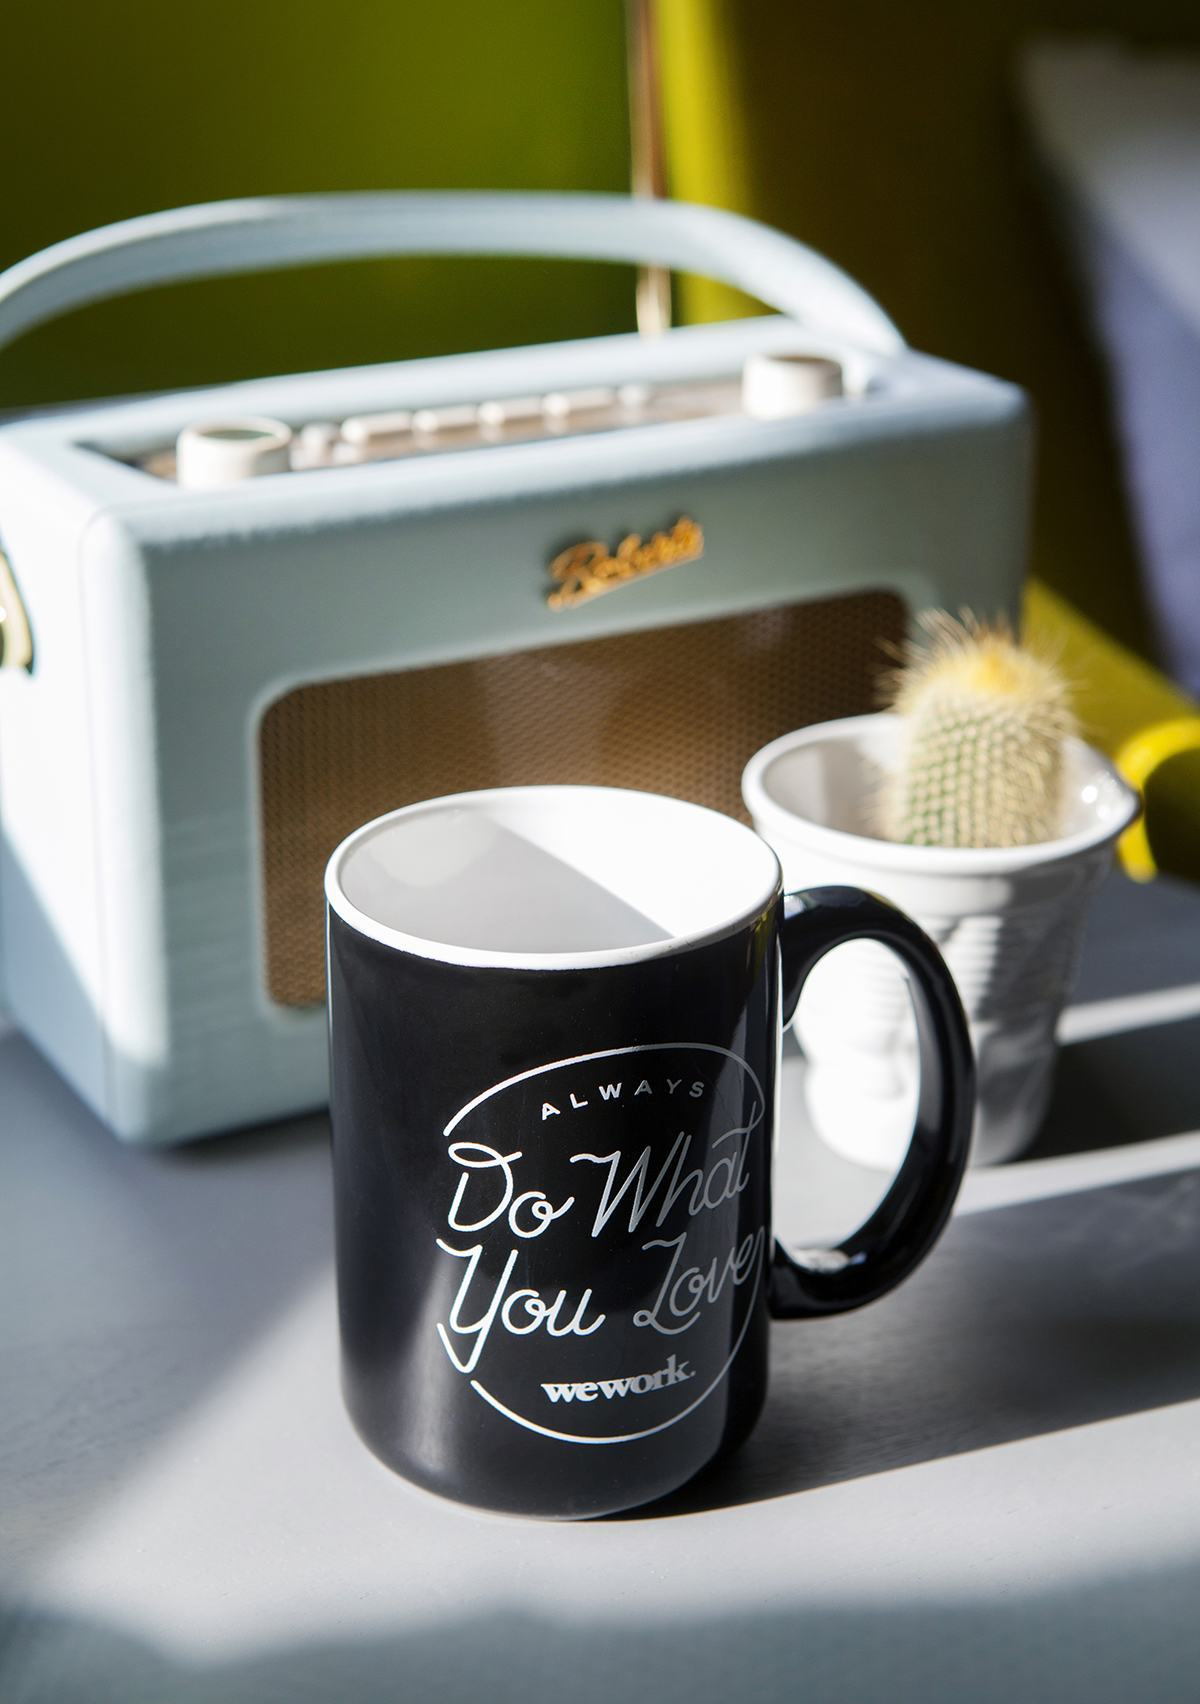wework: (540, 1349, 692, 1410)
